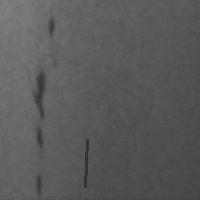inclusion: (29, 69, 50, 121), (31, 124, 47, 151), (42, 15, 59, 39), (83, 137, 89, 189), (34, 171, 45, 198)
